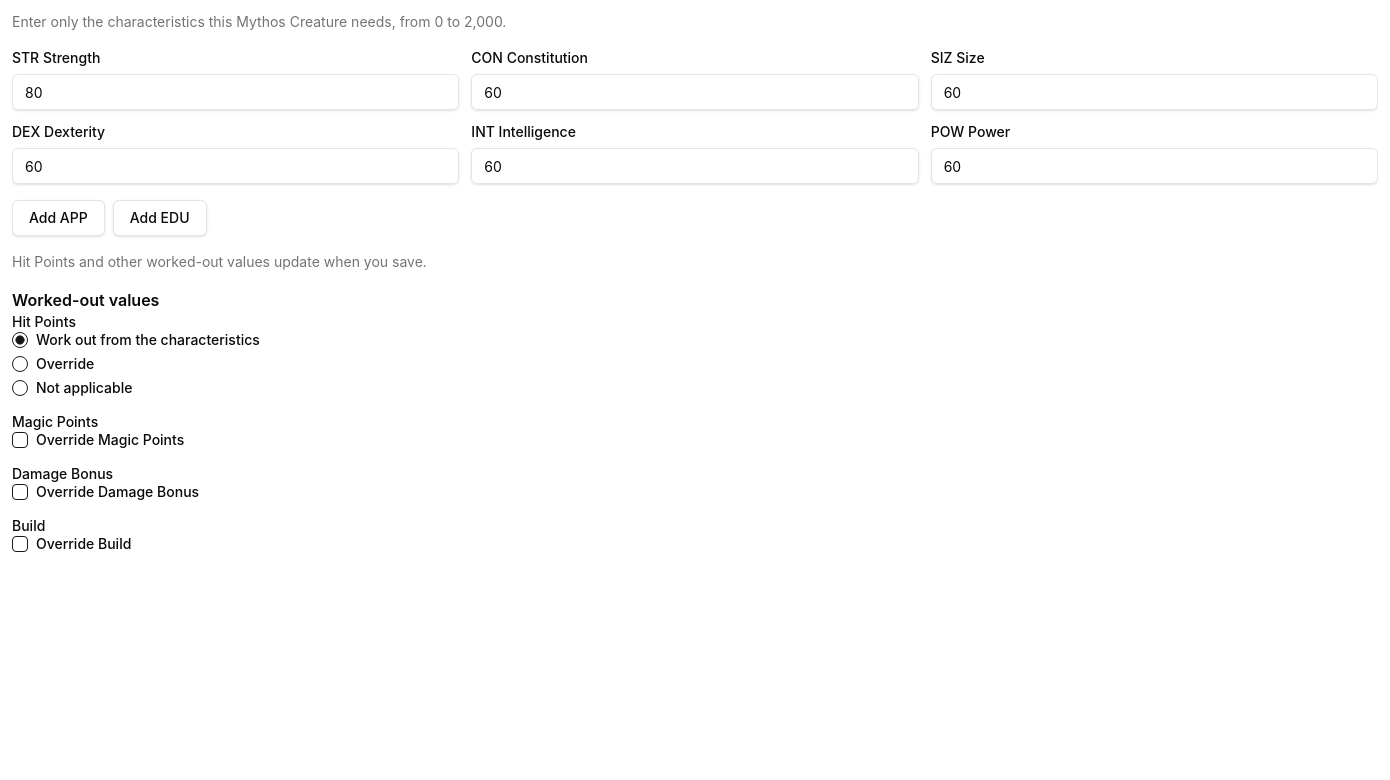
Test case: MonsterCharacteristicsFields › reveals the Hit Points value and reason for Override, and the Defeat outcome hint for Not applicable (SP-UX-46)
This screenshot has width=1390, height=780.
Click the 2nd radio button named "Override" at (20, 364), box [12,356,28,372]
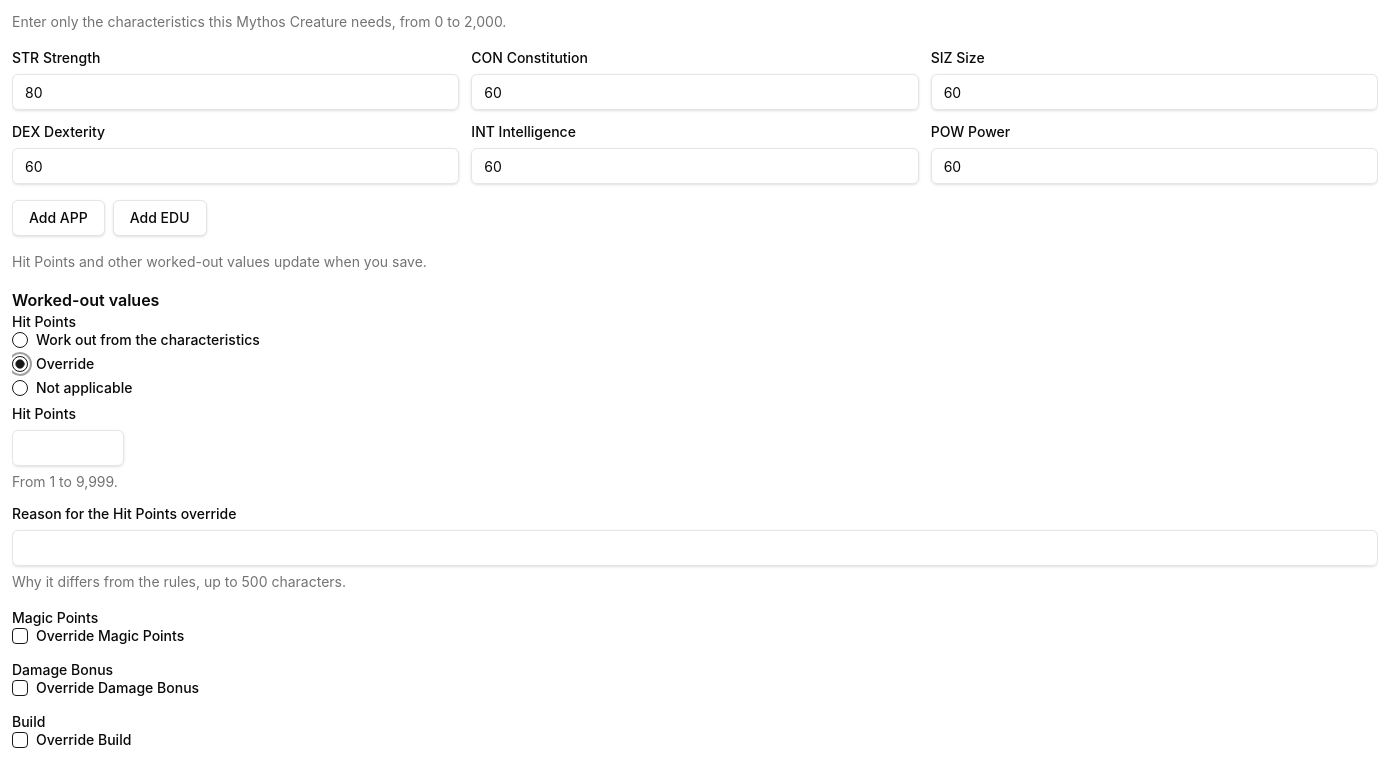
Type "40" into the number field labelled "Hit Points" at (68, 448), box [12,430,124,466]
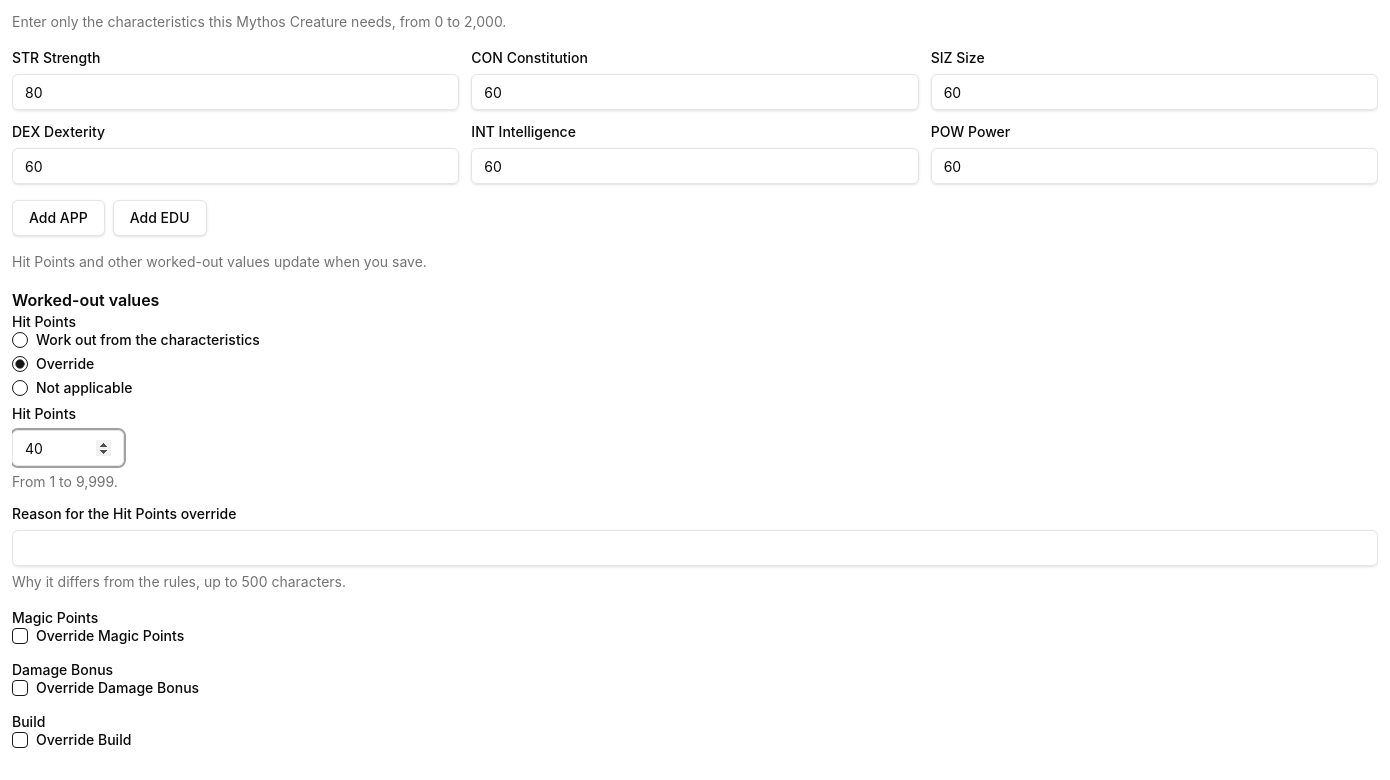
Type "Swollen" into the field labelled "Reason for the Hit Points override" at (695, 548), box [12,530,1378,566]
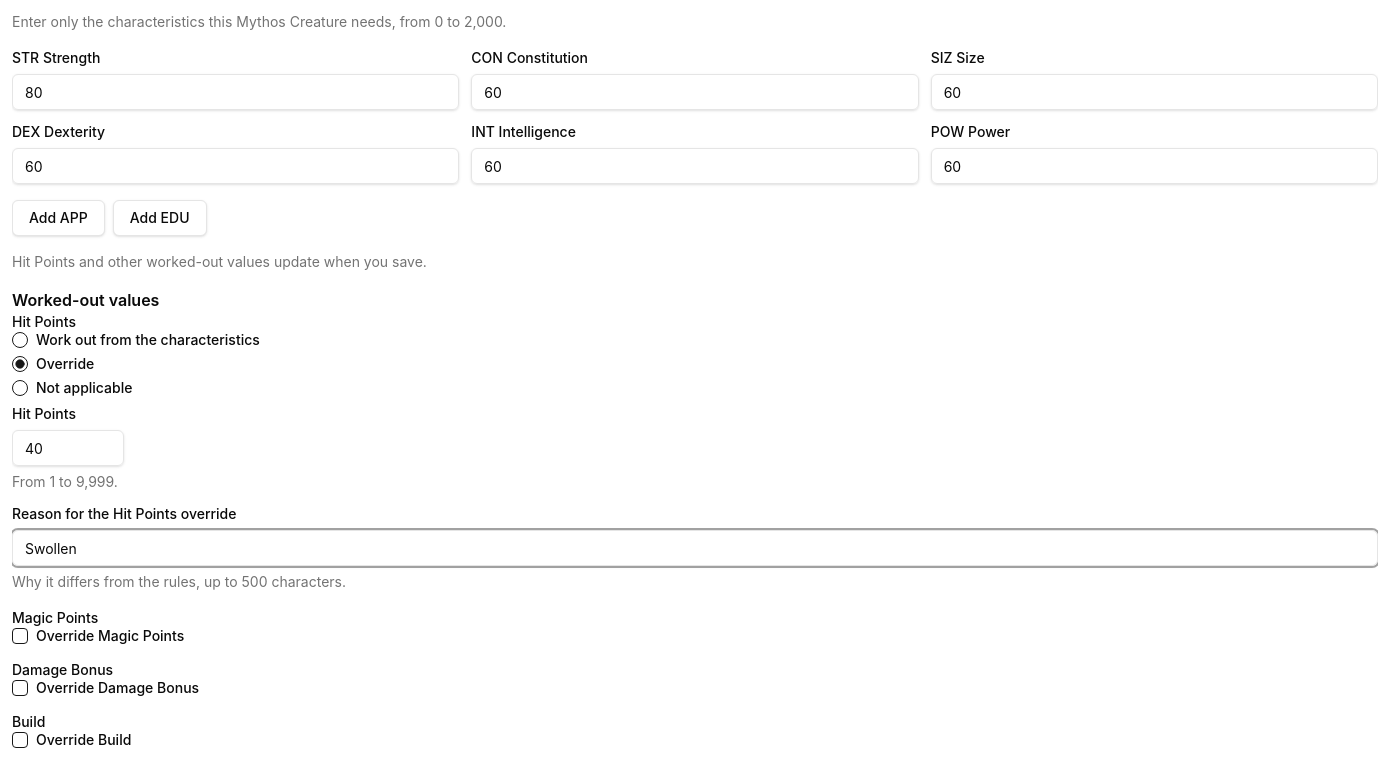
Click the radio button named "Not applicable" next to "Not applicable" at (20, 388), box [12,380,28,396]
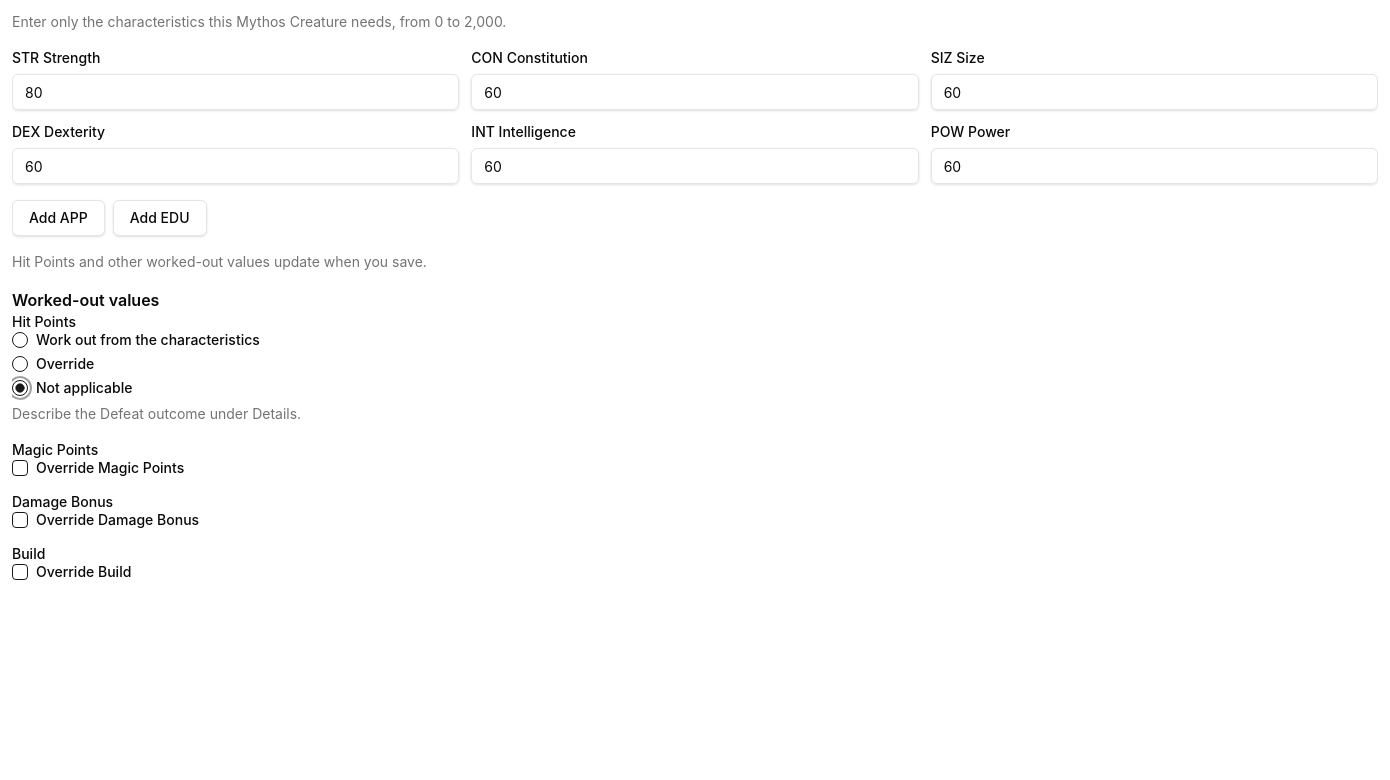
Expected: the text "Describe the Defeat outcome under Details." is shown, [12,405,301,422]
